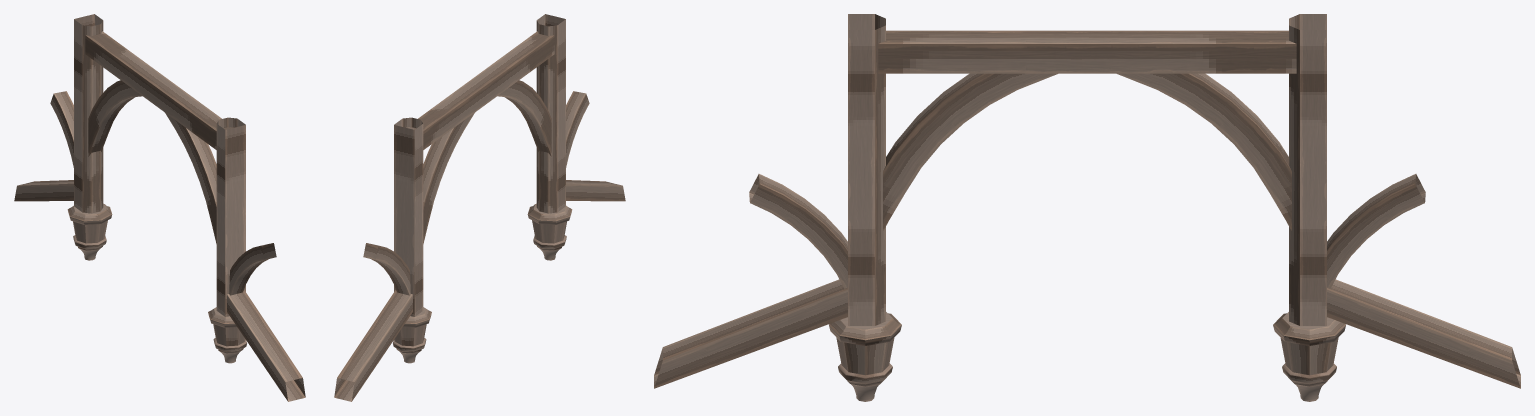
File: SM_RoofPoles_Ornament.fbx
The picture shows the model from 3 angles, left to right: view 1: azimuth 30°, elevation 25°; view 2: azimuth 150°, elevation 25°; view 3: azimuth 270°, elevation 25°; orthographic projection. The views are drawn at different scales.
Parts seen in each view (by area): view 1: SM_RoofPoles_Ornament_LOD0; view 2: SM_RoofPoles_Ornament_LOD0; view 3: SM_RoofPoles_Ornament_LOD0.
Boxes of the visible parts, x1,y1,x2,y2 form: SM_RoofPoles_Ornament_LOD0: (14,14,305,401); SM_RoofPoles_Ornament_LOD0: (334,14,625,401); SM_RoofPoles_Ornament_LOD0: (654,14,1520,401).
Bounding box in the file's own units: 115 × 1358 × 650.
